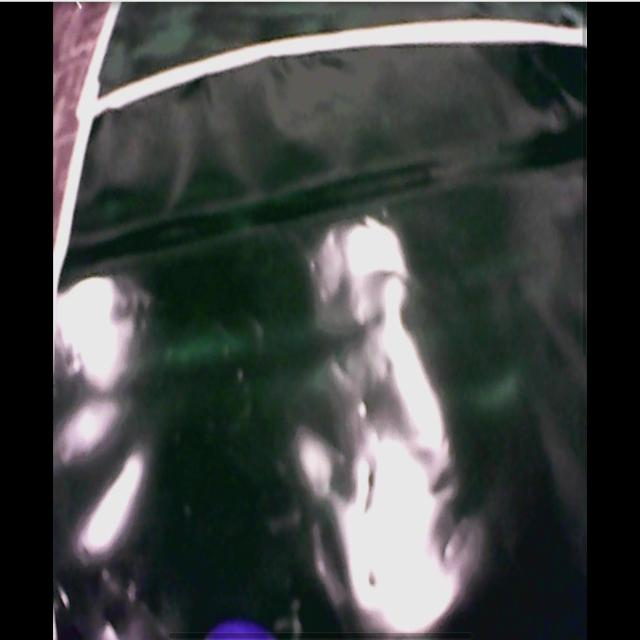ball: (209, 621, 272, 640)
